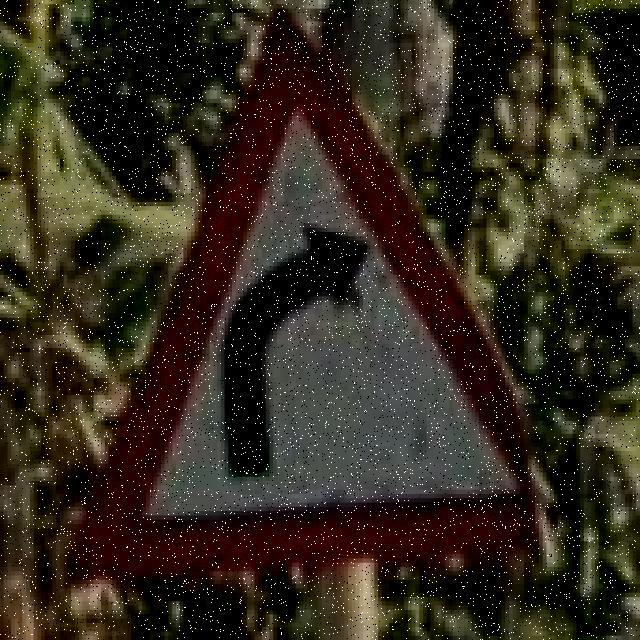Right-turn: (66, 6, 567, 553)
